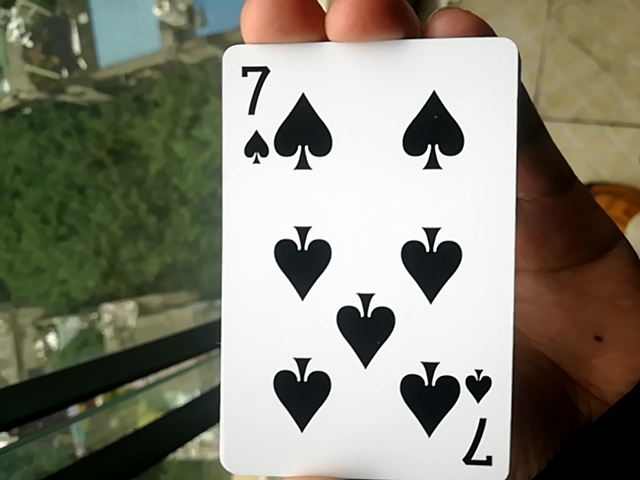ht 7: (213, 18, 510, 480)
